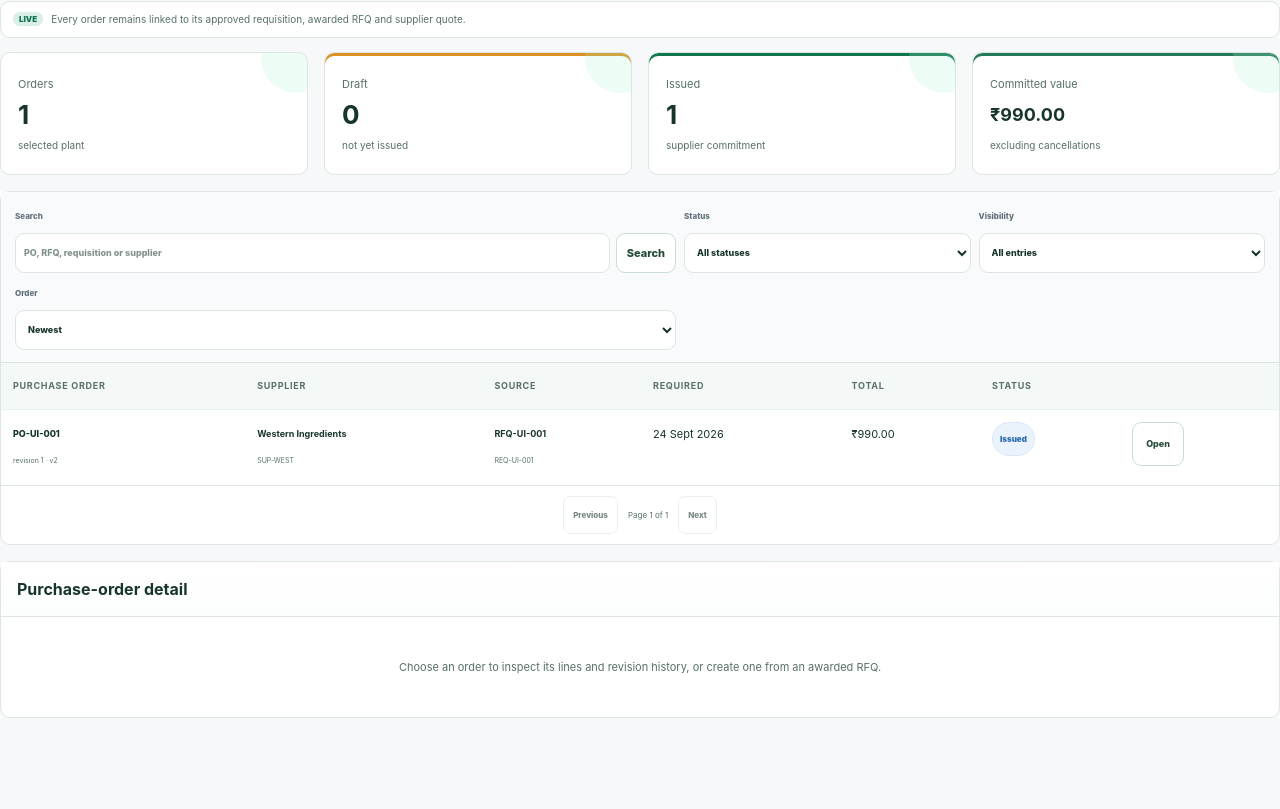
Test: purchase order workspace › records a complete commercial amendment as the next immutable revision
The image size is (1280, 809).
Click the button "Open": (1158, 444) [1132,422,1184,466]
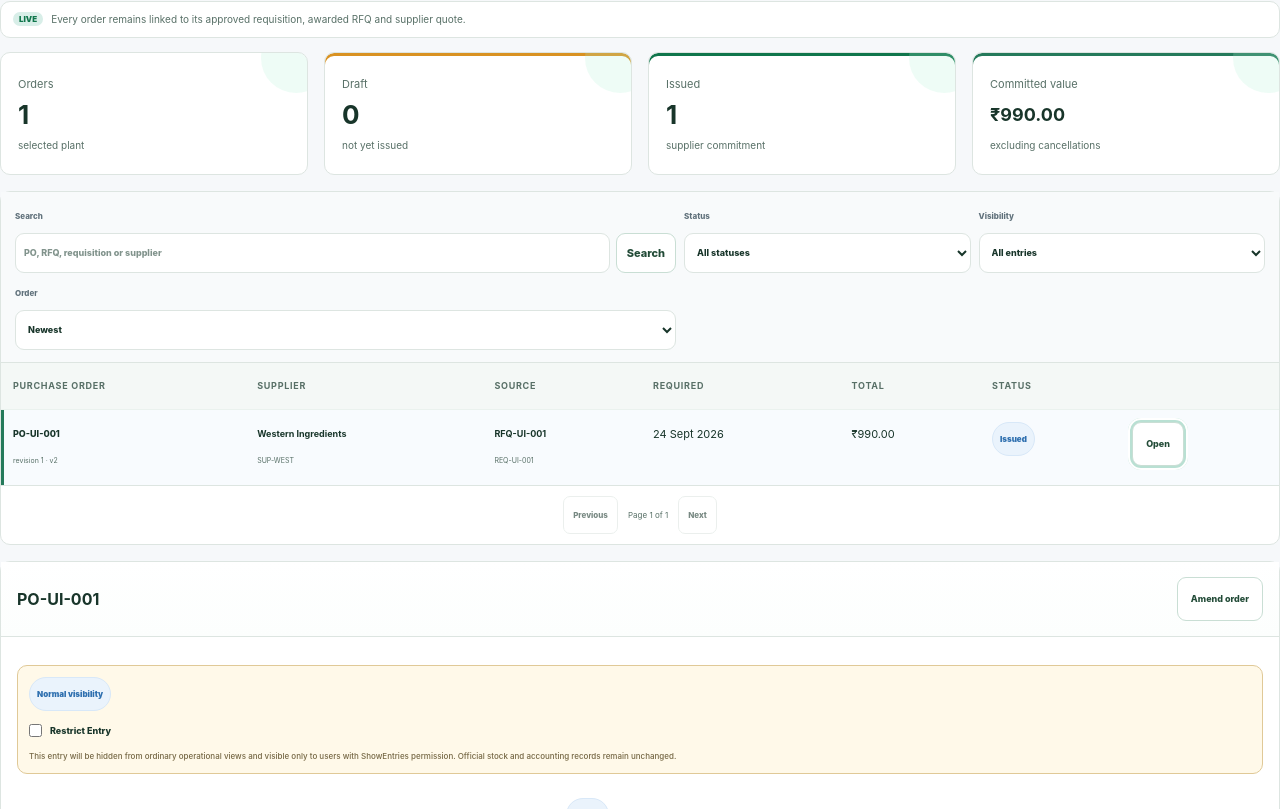
Click the button "Amend order": (1220, 599) [1177,577,1263,621]
(page scrolled)
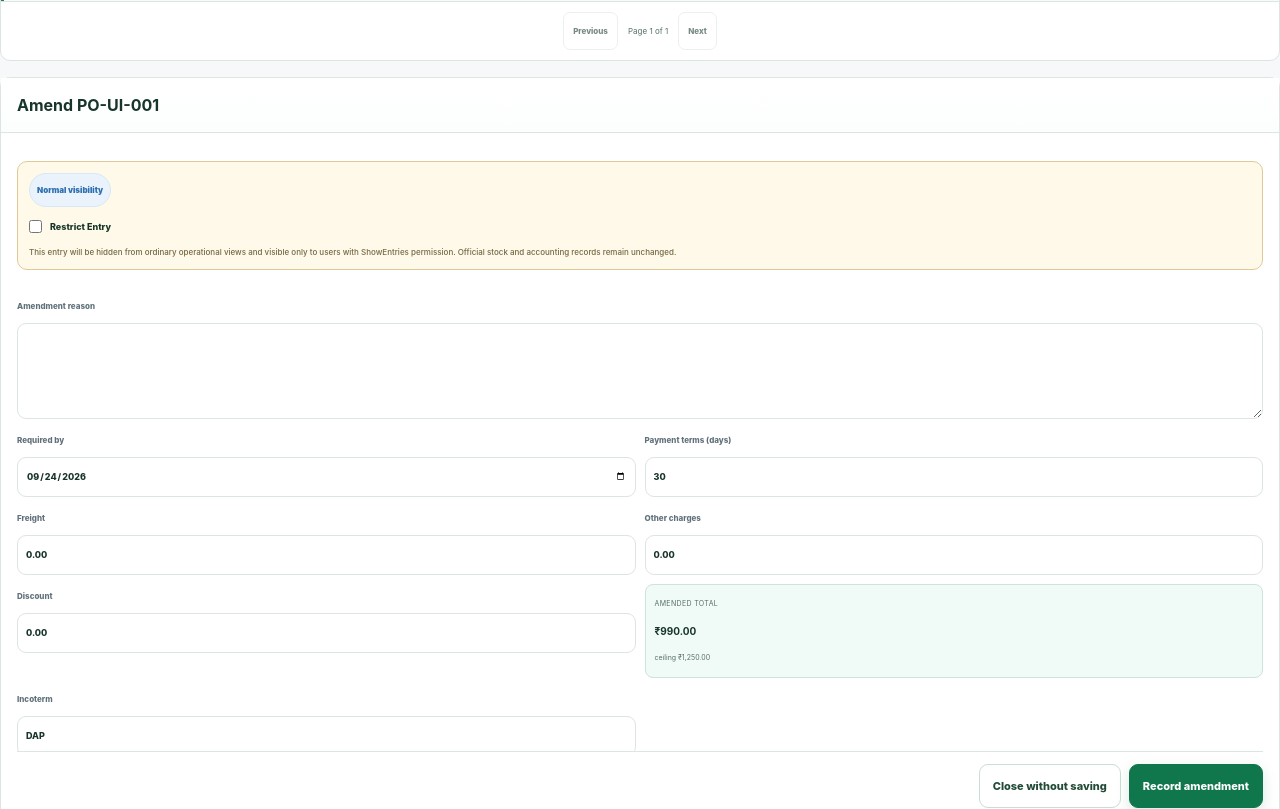
In the text box labelled "Amendment reason": (640, 371) [17,323,1263,419], type "Supplier confirmed revised freight."
Replace the text in the number field labelled "Freight" with "25": (326, 555) [17,535,636,575]
(page scrolled)
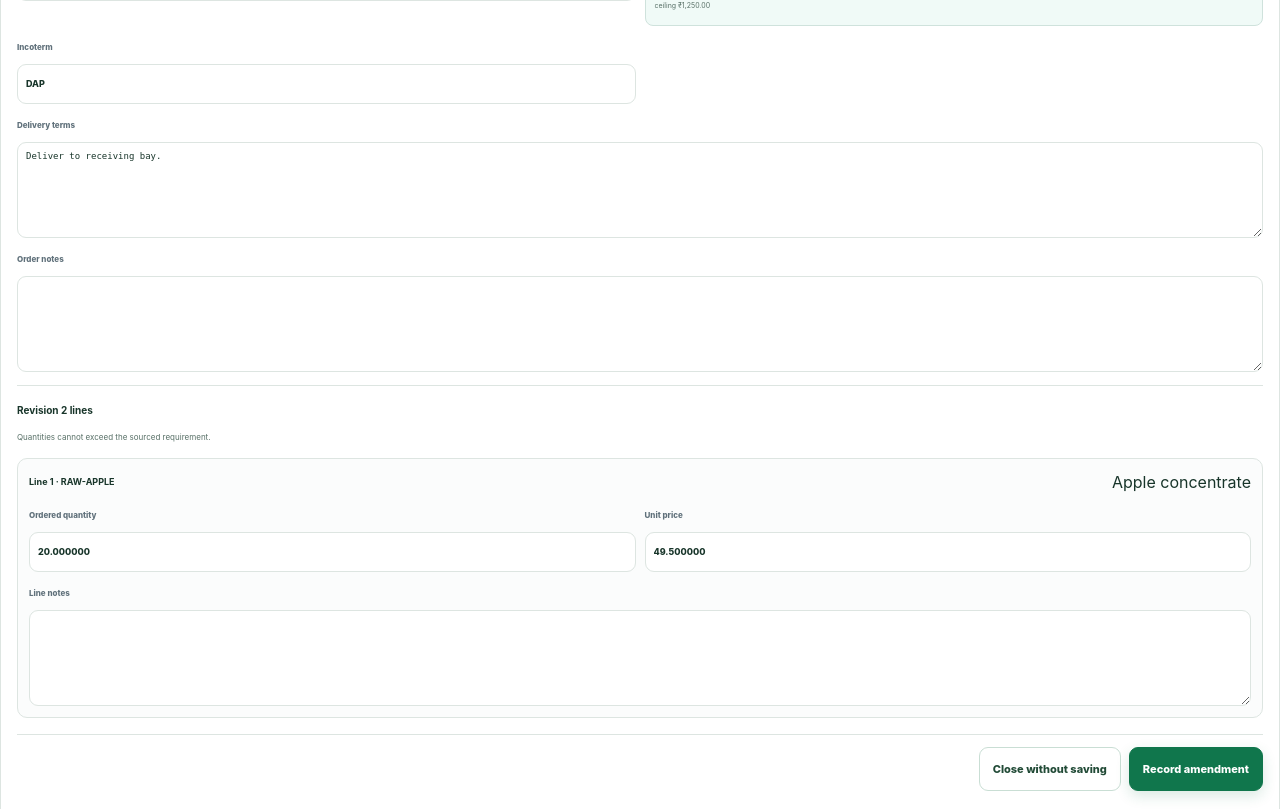
Replace the text in the number field named "Line 1 ordered quantity" with "20": (332, 552) [29,532,636,572]
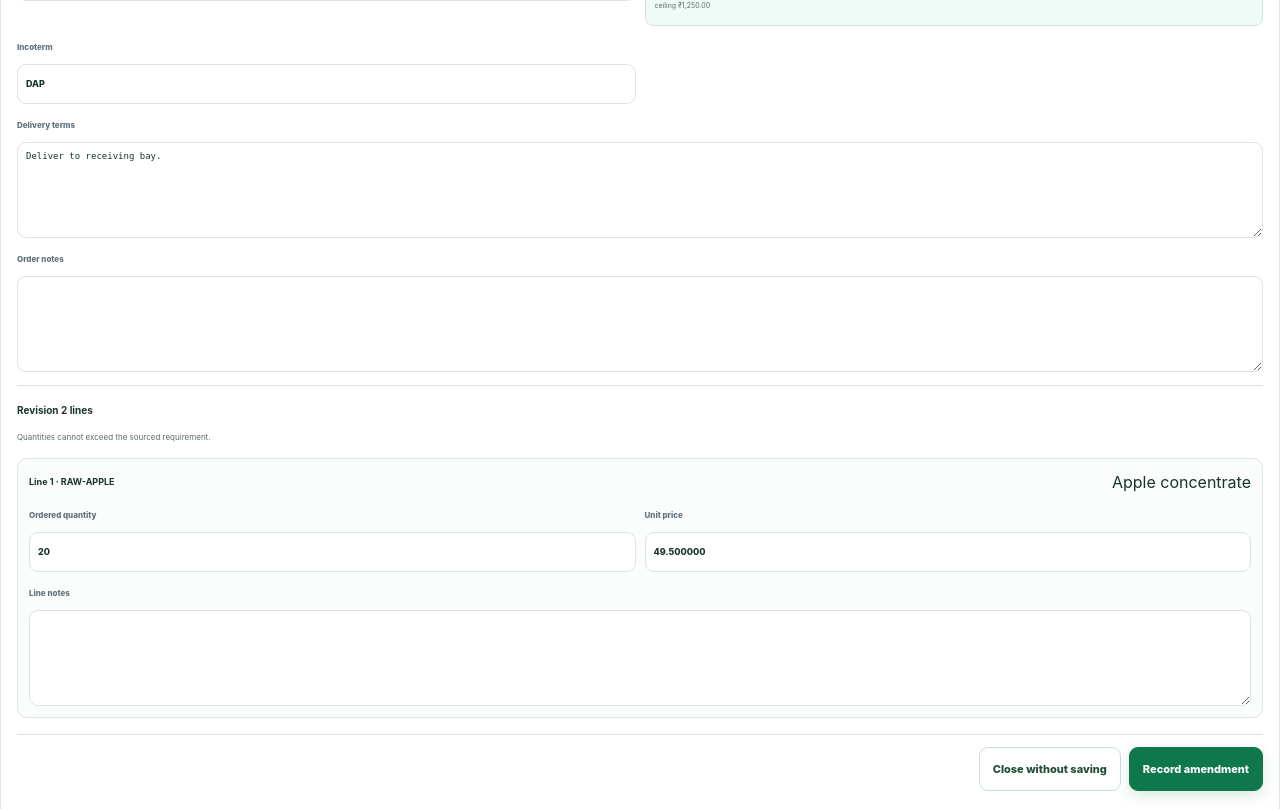
Replace the text in the number field named "Line 1 order unit price" with "49.5": (948, 552) [644,532,1251,572]
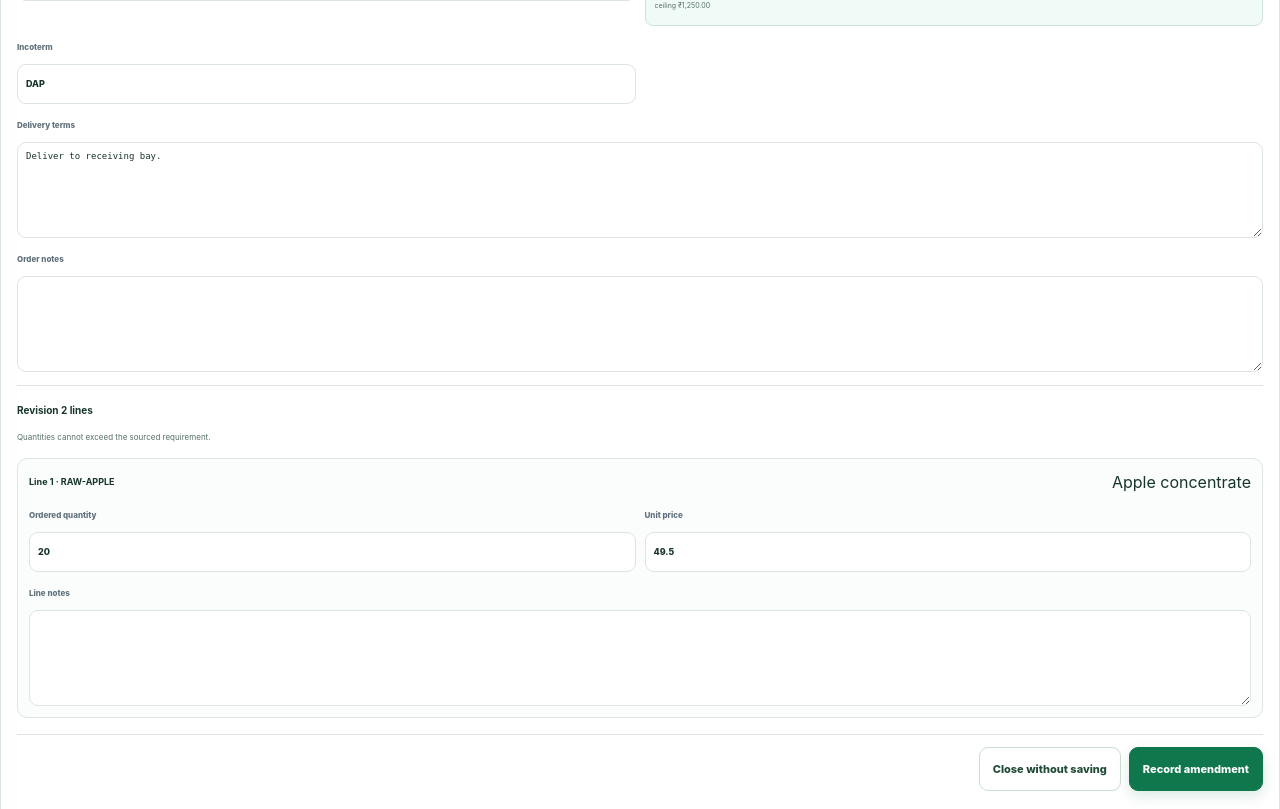
Click the button "Record amendment": (1196, 769) [1129,747,1263,791]
(page scrolled)
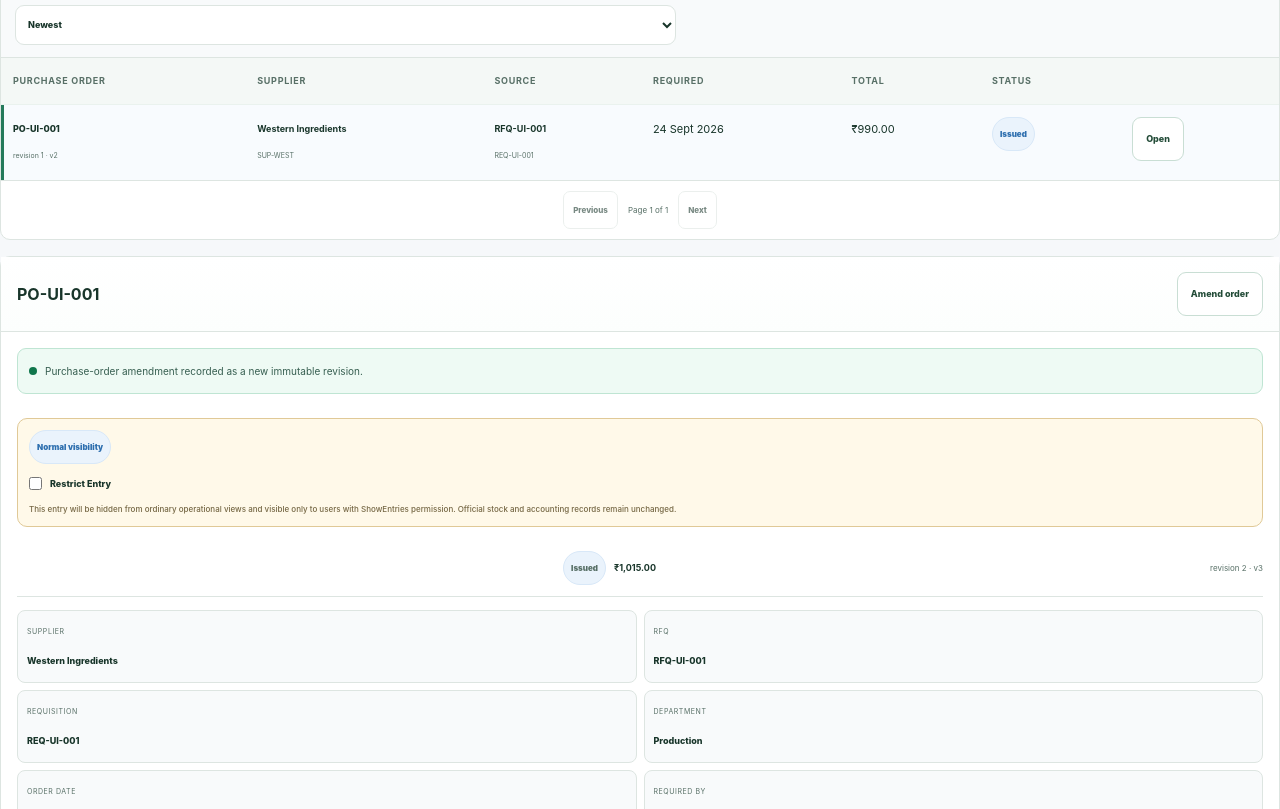
Result: the text "Purchase-order amendment recorded as a new immutable revision." is shown at [17,348,1263,394]
